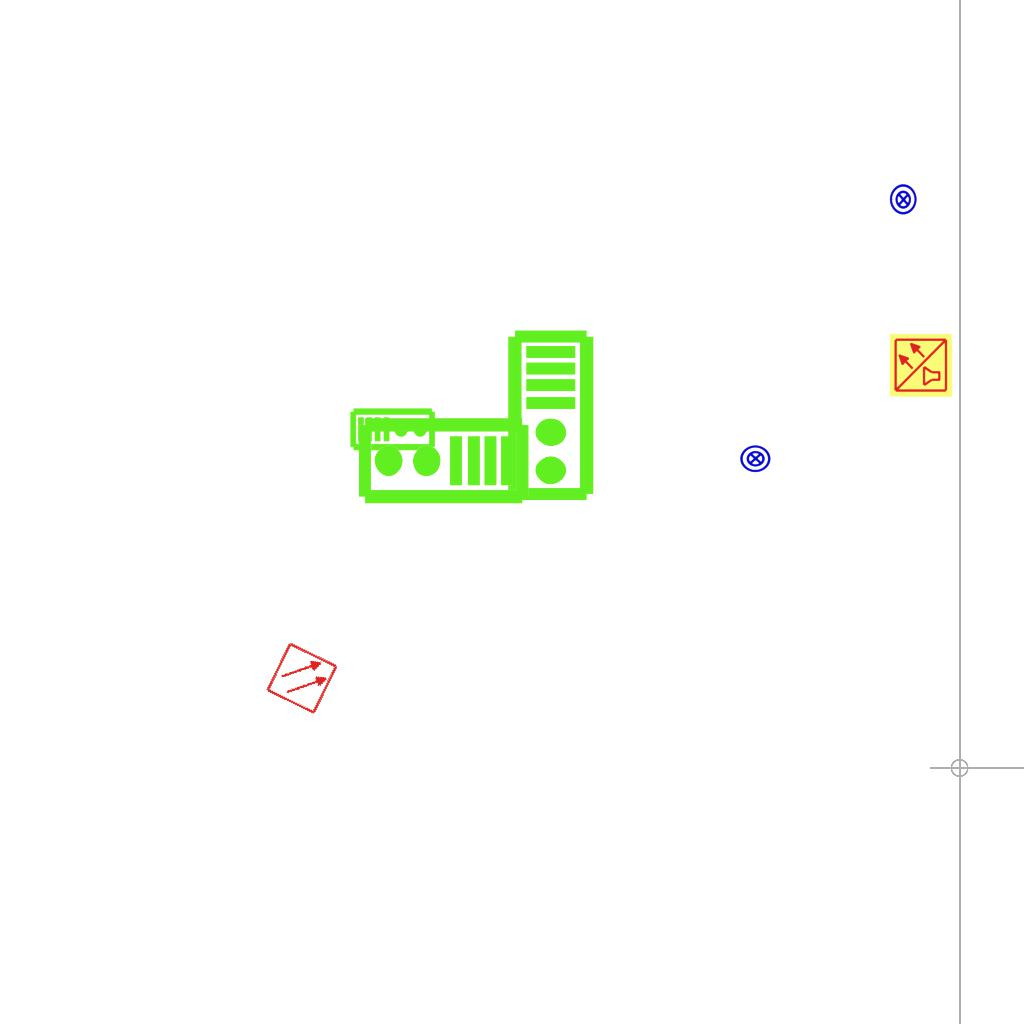Gegensprechanlage_mit_Video: (505, 328, 600, 504), (355, 415, 531, 510), (349, 405, 437, 452)
OKW_Multisensormelder_(Kombination_optischer_Rauch-Kahlenmonoxid_Waerme-Melder): (888, 332, 954, 398)
RMO_Rauchmelder_optischer: (264, 640, 340, 716)
Taster_beleuchtet: (887, 183, 920, 216), (739, 442, 772, 475)
